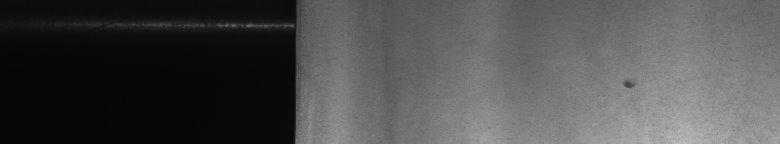fi: (618, 73, 637, 97)
